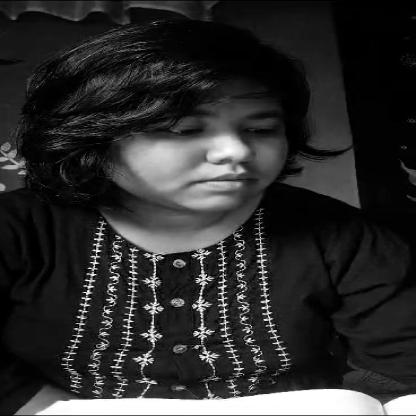Distracted: (71, 43, 308, 221)
